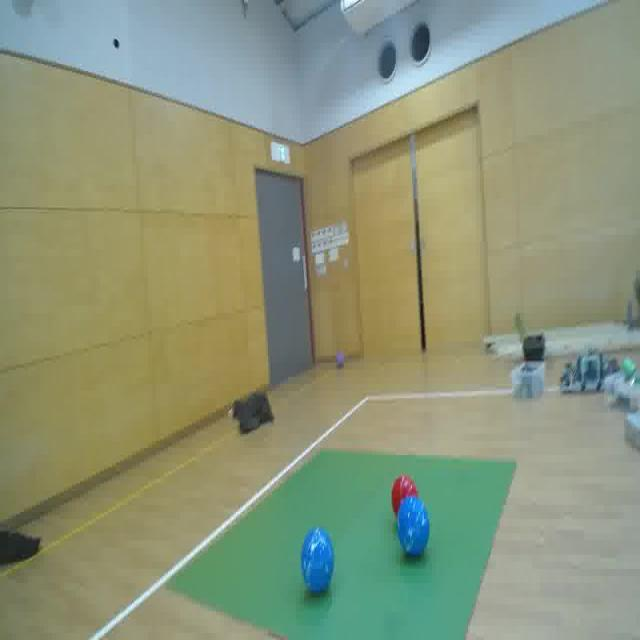blue_ball: (301, 522, 336, 603), (396, 494, 430, 562)
purple_ball: (333, 350, 345, 372)
red_ball: (392, 471, 418, 523)
